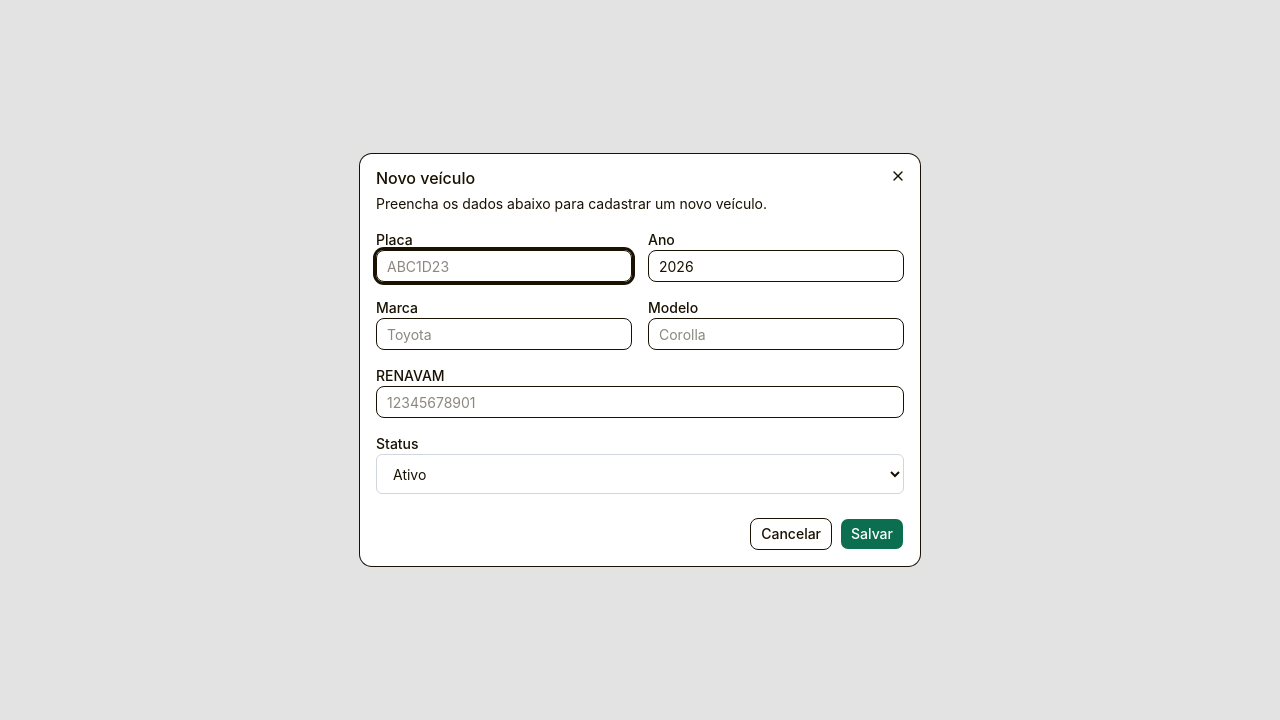
Test: VehicleFormDialog › shows validation errors when submitting empty form
Clear the default year value
Clear the number field labelled "Ano" at x=776, y=266, box [648,250,904,282]
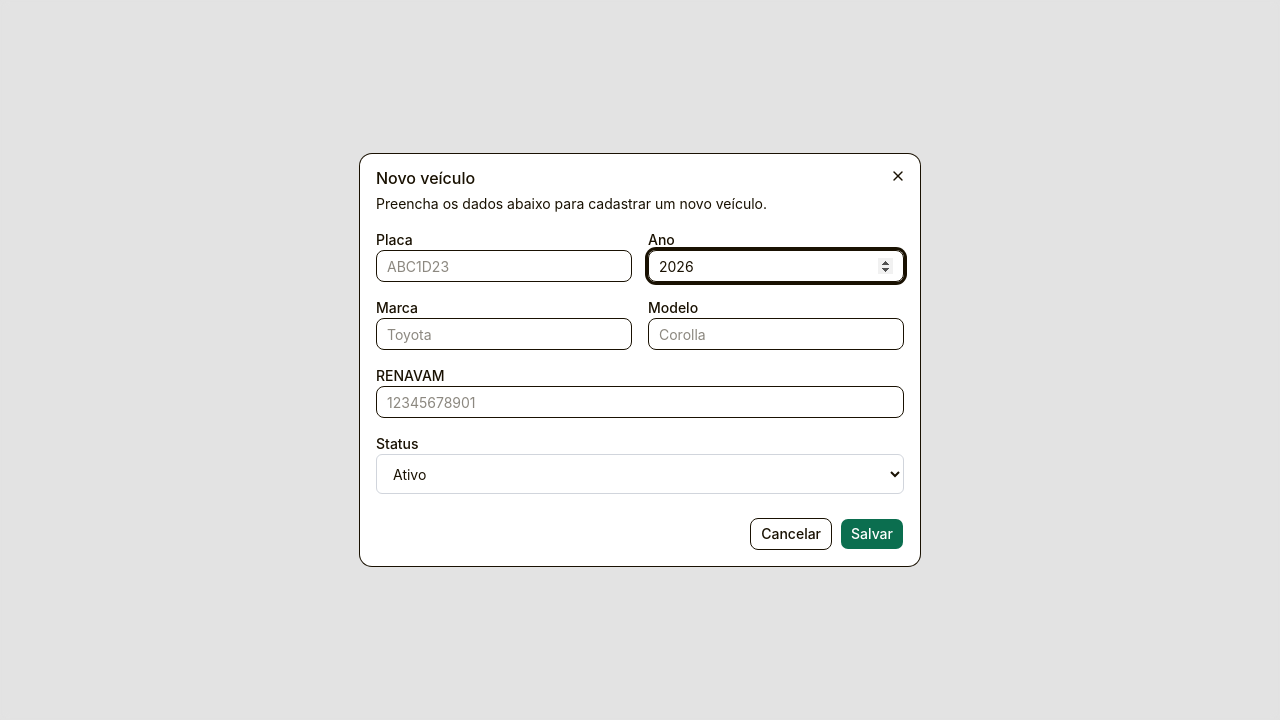
Click the button "Salvar" at x=872, y=534, box [840,518,904,550]
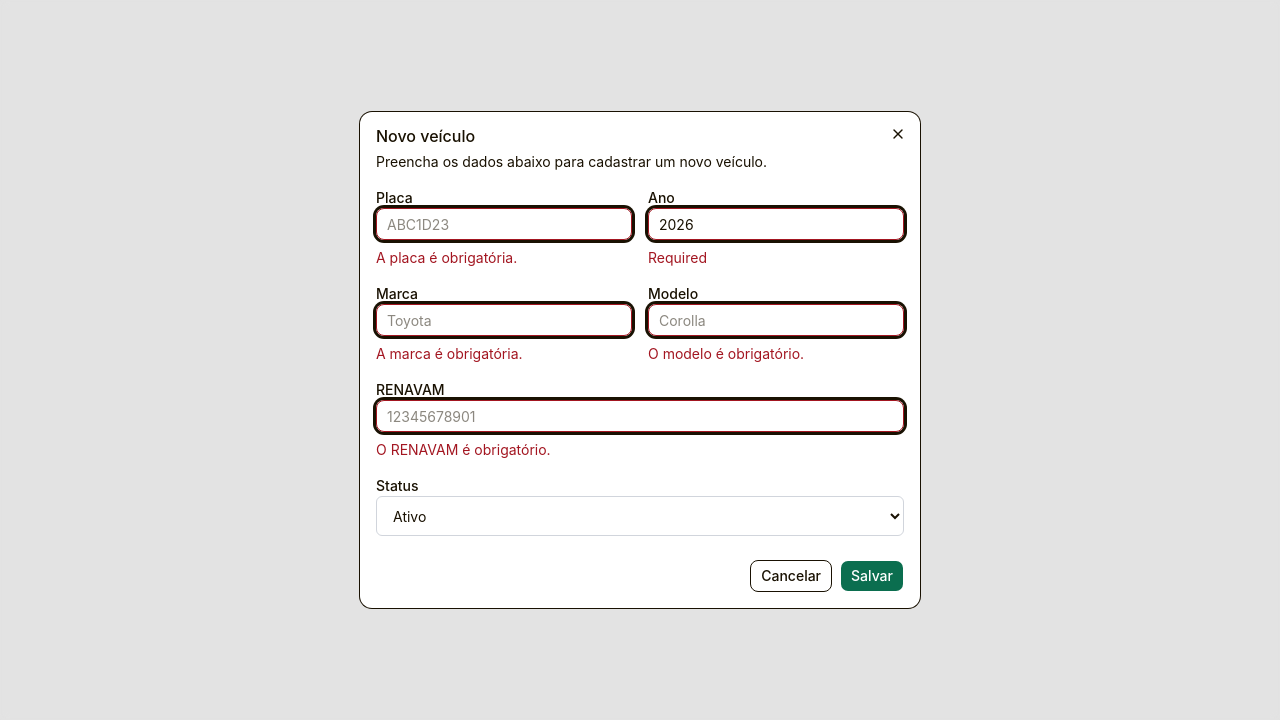
Check: the text "A placa é obrigatória." is shown, box [376,249,517,266]
Check: the text "A marca é obrigatória." is shown, box [376,345,522,362]
Check: the text "O modelo é obrigatório." is shown, box [648,345,804,362]
